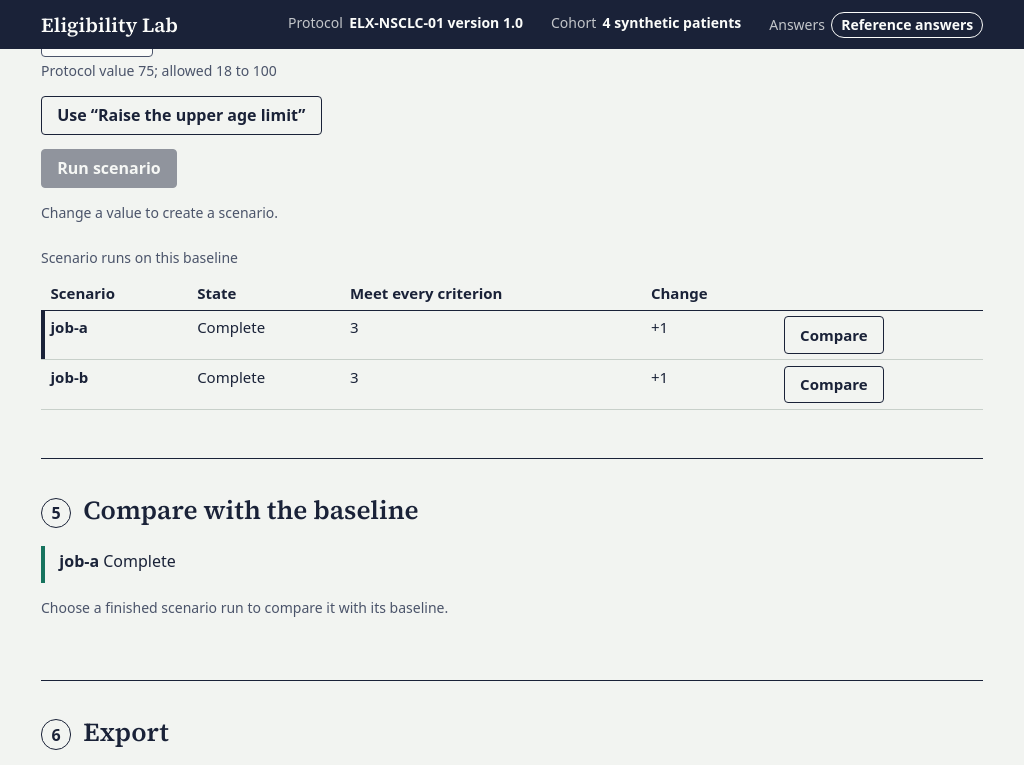
Test: showcase workflow › never lets a slow answer for an earlier selection replace the current one
This screenshot has width=1024, height=765.
(page scrolled)
Click the button named "Compare job-b" at (834,385), box [784, 366, 884, 403]
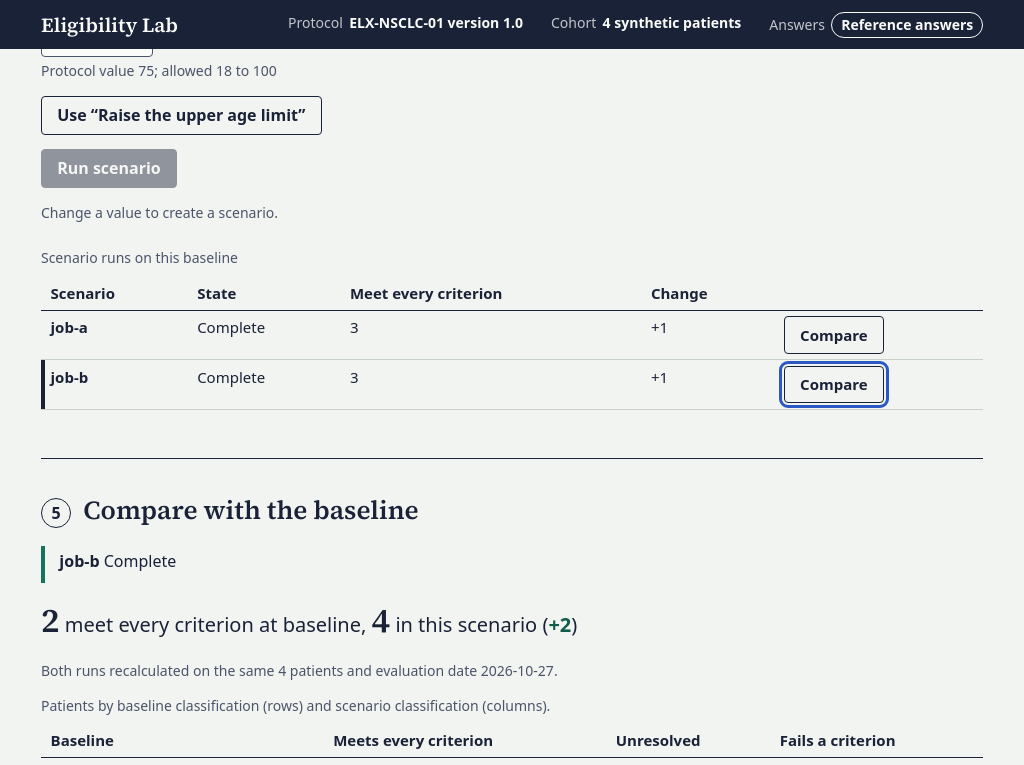
Expected: the text "2 meet every criterion at baseline, 4 in this scenario (+2)" is shown, [41, 597, 577, 643]
